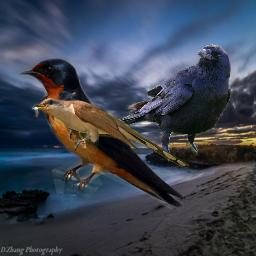Crow: (114, 44, 231, 162)
Cuckoo: (29, 97, 189, 168)
Swallow: (18, 58, 184, 211)
